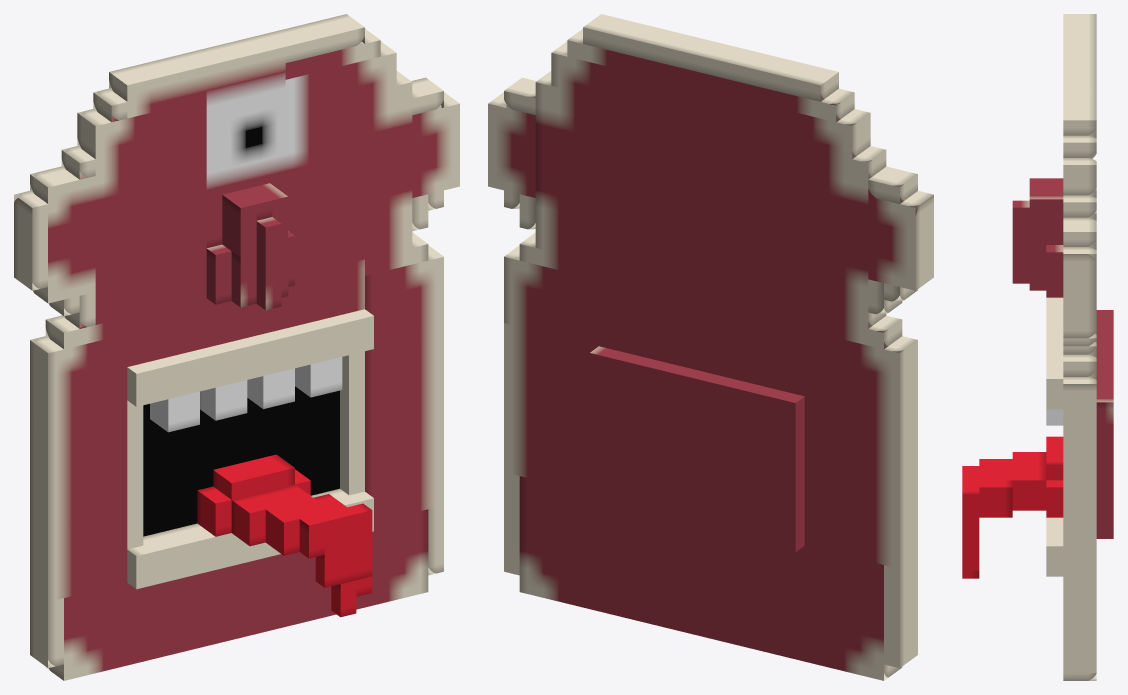
File: MeatHead.dae
3 views of the same model, side by side, from view 1: azimuth 30°, elevation 25°; view 2: azimuth 150°, elevation 25°; view 3: azimuth 270°, elevation 25° (orthographic). The views are drawn at different scales.
Visible parts, largest first — view 1: MeatHead; view 2: MeatHead; view 3: MeatHead.
Boxes of the visible parts, x1,y1,x2,y2 form: MeatHead: [14, 14, 459, 680]; MeatHead: [488, 14, 933, 680]; MeatHead: [962, 14, 1113, 680].
Size of the model in its own units: 27 by 35 by 9.
Materials: 1 (1 with a texture image).
